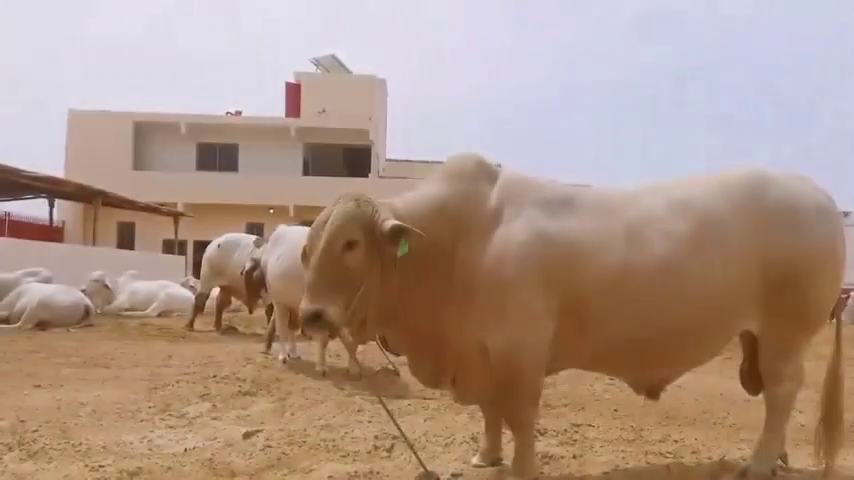bo: (295, 144, 849, 476), (235, 215, 324, 356), (186, 217, 261, 342), (99, 250, 200, 321), (5, 277, 101, 334), (6, 258, 63, 291)
